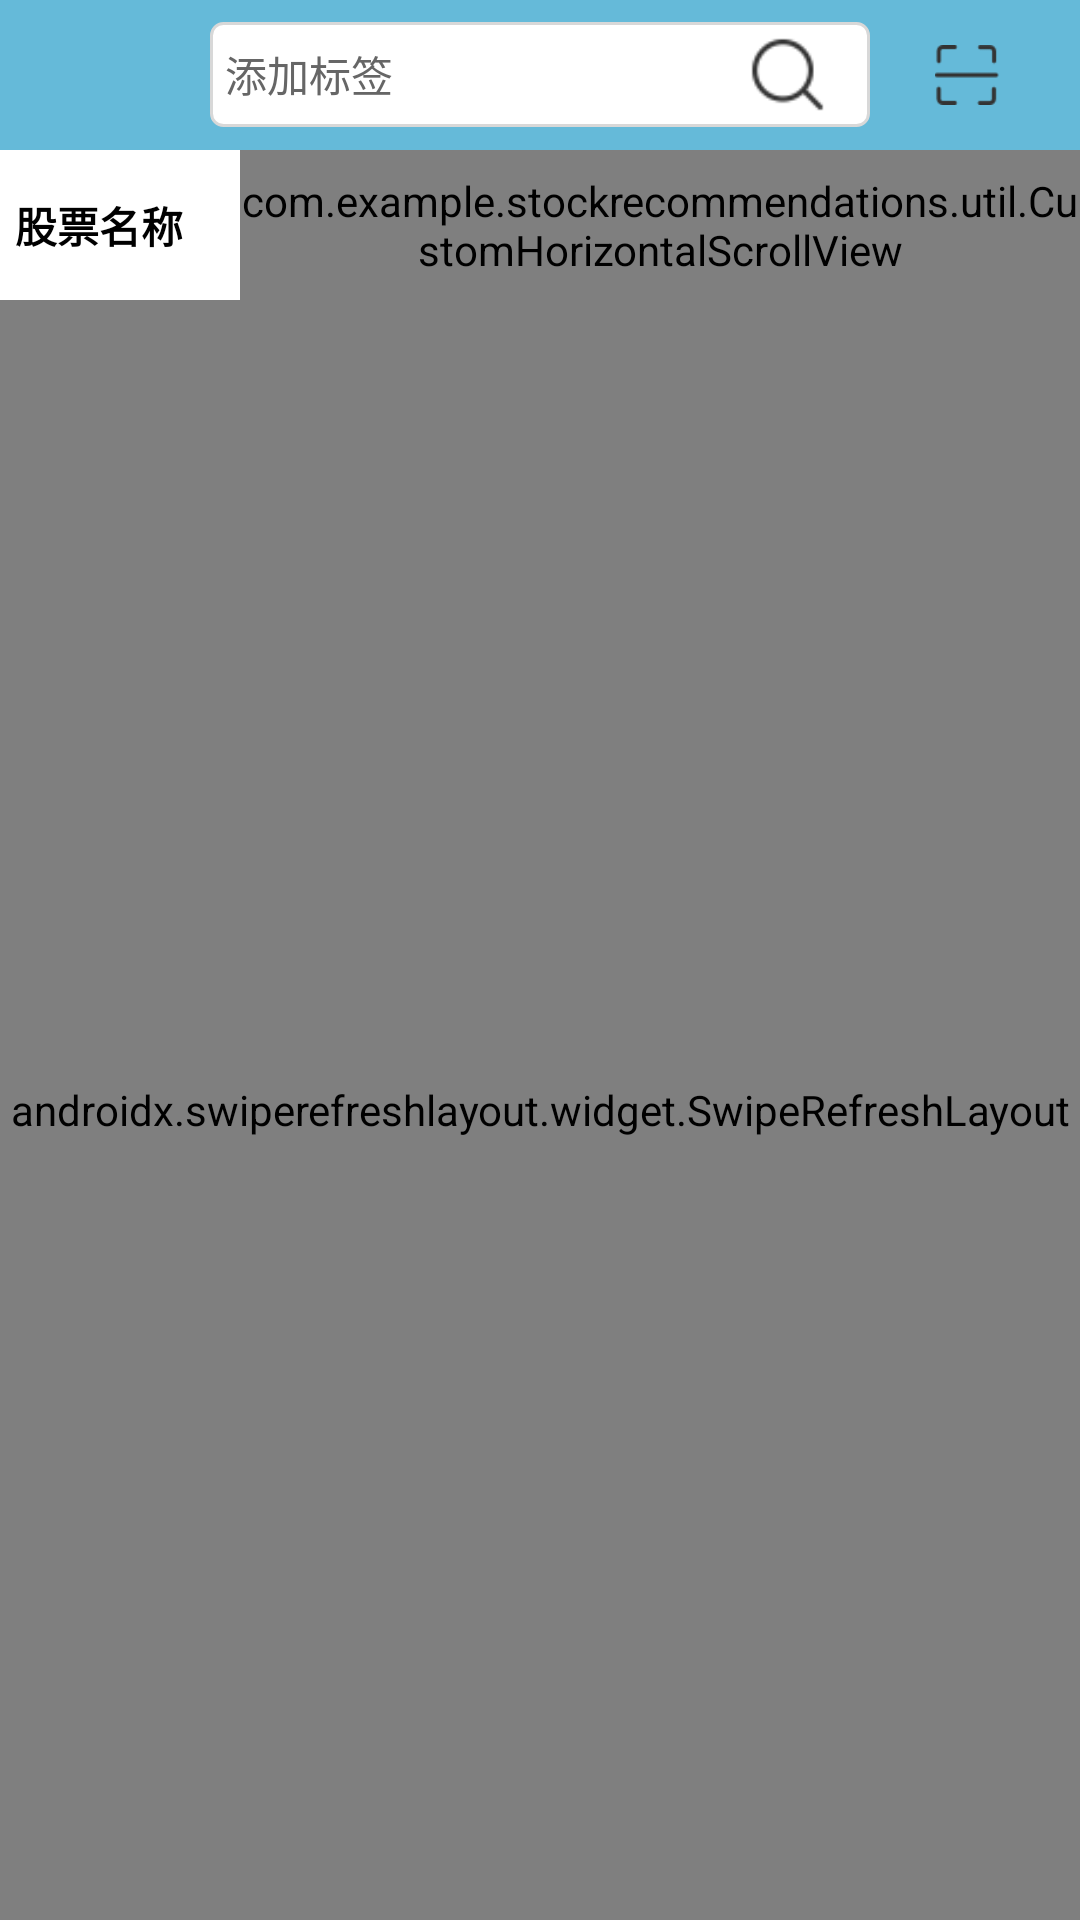

Point at icon controls on the screen. Image size 1080×1920, points as point (x, y).
qrcode: point (967, 75)
search: point (787, 74)
